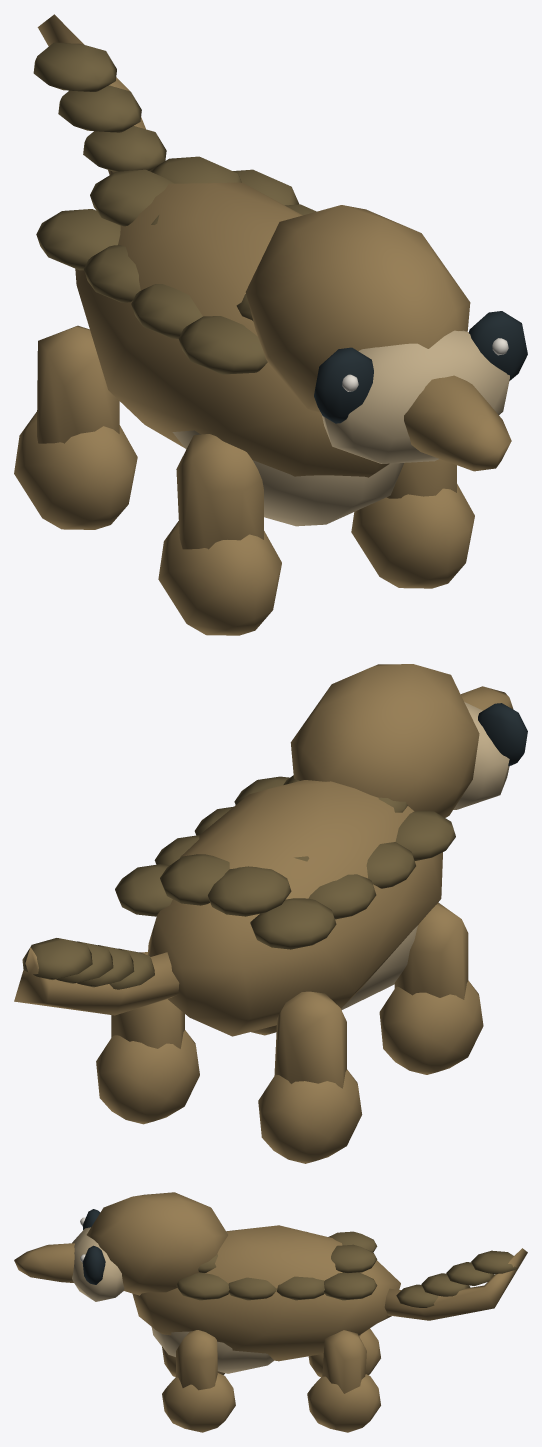
Rendered from org_pangolin.glb.
The picture shows the model from 3 angles, top to bottom: view 1: azimuth 30°, elevation 25°; view 2: azimuth 150°, elevation 25°; view 3: azimuth 270°, elevation 25°; orthographic projection. The views are drawn at different scales.
Visible parts, largest first — view 1: Body, Head, Leg_FR, Leg_BR, Leg_FL, Tail, Eye_R, Eye_L; view 2: Body, Head, Leg_BR, Leg_FR, Leg_BL, Tail, Eye_R; view 3: Body, Head, Tail, Leg_BL, Leg_FL, Leg_BR, Eye_L.
Boxes of the visible parts, x1,y1,x2,y2 form: Body: (36, 156, 403, 526); Head: (245, 205, 511, 471); Leg_FR: (158, 434, 281, 635); Leg_BR: (14, 325, 137, 529); Leg_FL: (351, 459, 474, 588); Tail: (33, 14, 166, 174); Eye_R: (314, 347, 373, 423); Eye_L: (469, 311, 527, 380); Body: (115, 775, 455, 1036); Head: (290, 664, 513, 817); Leg_BR: (258, 991, 362, 1163); Leg_FR: (379, 902, 483, 1074); Leg_BL: (96, 952, 199, 1124); Tail: (14, 938, 179, 1015); Eye_R: (478, 703, 527, 766); Body: (132, 1225, 400, 1373); Head: (14, 1192, 227, 1301); Tail: (384, 1248, 527, 1320); Leg_BL: (307, 1330, 380, 1432); Leg_FL: (162, 1330, 235, 1432); Leg_BR: (308, 1328, 380, 1376); Eye_L: (80, 1245, 105, 1284).
Bounding box in the file's own units: 0.2316 × 0.3142 × 0.6987.
